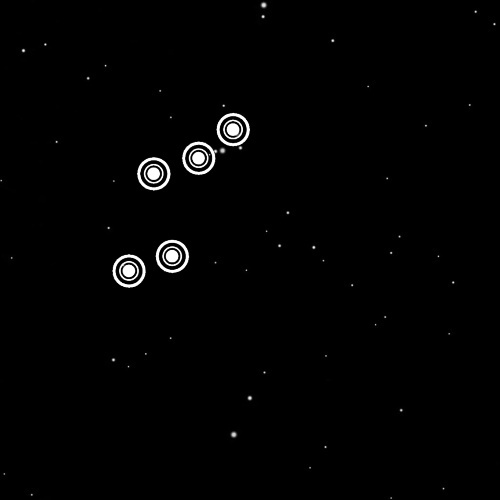lyra: (96, 99, 259, 305)
